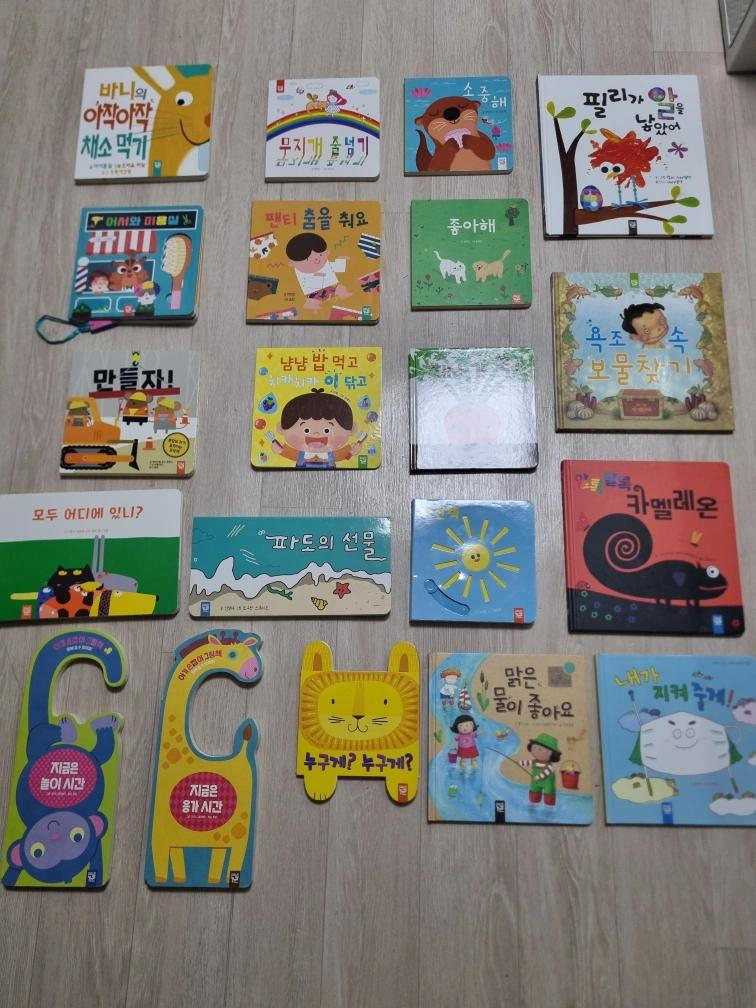book: (560, 458, 745, 636), (550, 271, 735, 433), (535, 73, 714, 240), (426, 650, 594, 826), (594, 652, 755, 827), (10, 645, 120, 893), (0, 488, 182, 624), (165, 638, 253, 892), (187, 515, 392, 619), (302, 633, 422, 808), (58, 348, 201, 478), (245, 199, 381, 325), (73, 62, 214, 183), (67, 204, 204, 327), (408, 345, 538, 472), (250, 346, 382, 470), (408, 498, 536, 625), (409, 197, 532, 311), (263, 75, 380, 182), (402, 75, 514, 176)
